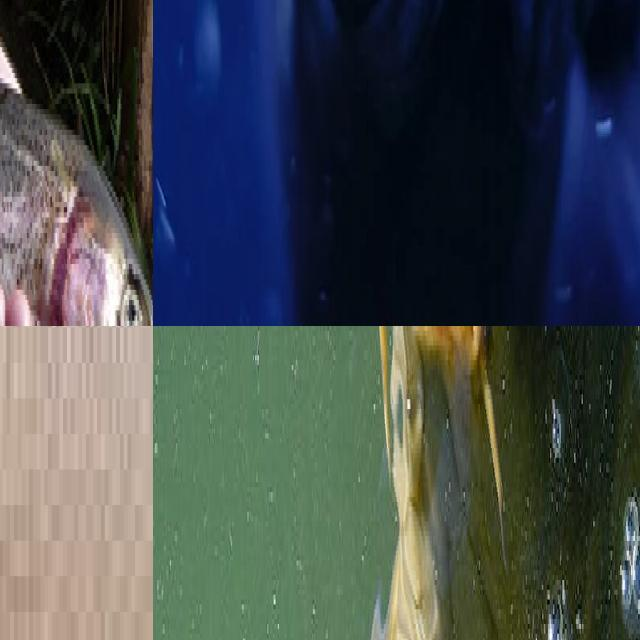fish: (153, 0, 640, 326), (289, 326, 640, 640), (0, 0, 153, 326), (0, 326, 153, 640)
